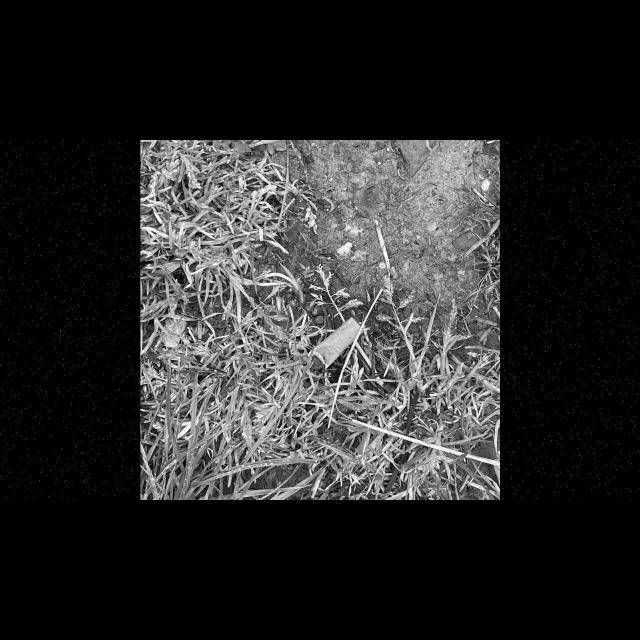cigarette: (307, 316, 364, 373)
